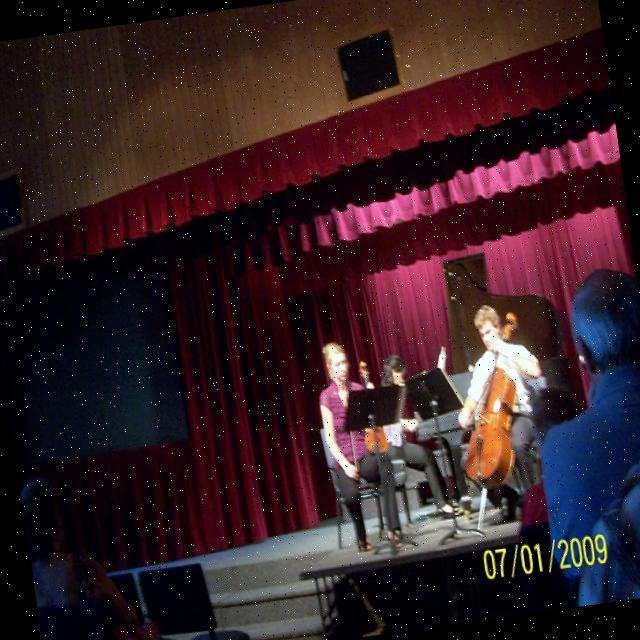cello: (444, 308, 544, 492)
violin: (351, 358, 390, 457)
